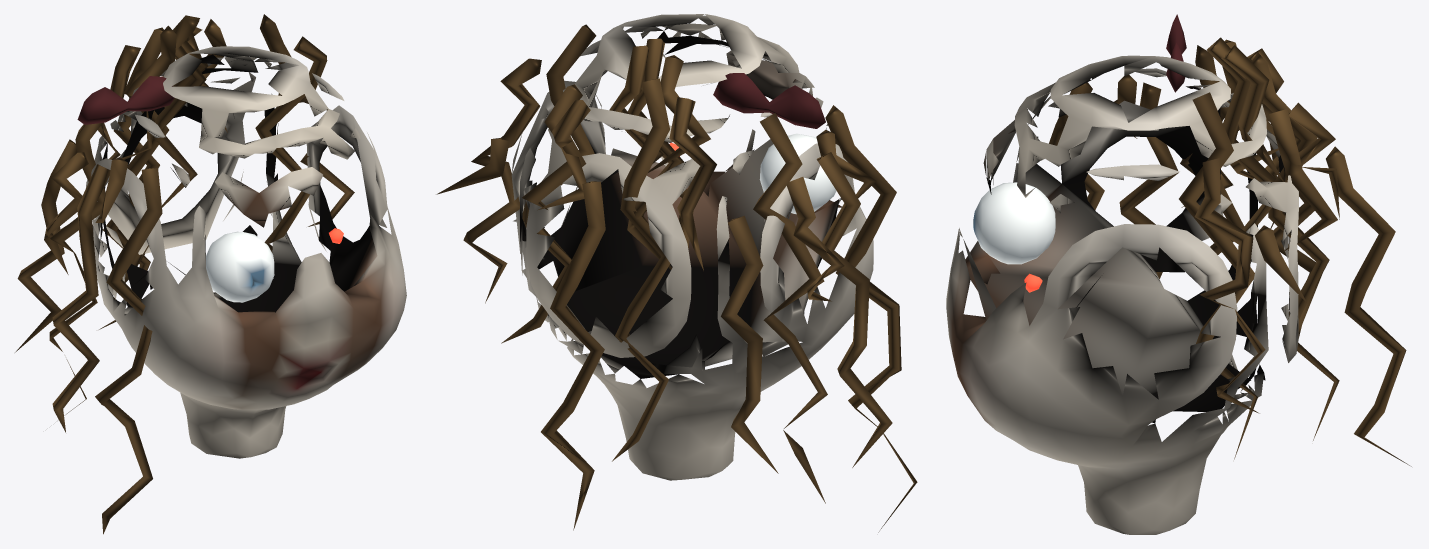
Rendered from doll_head_v16.glb.
3 views of the same model, side by side, from view 1: azimuth 30°, elevation 25°; view 2: azimuth 150°, elevation 25°; view 3: azimuth 270°, elevation 25° (orthographic). The views are drawn at different scales.
Parts seen in each view (by area): view 1: doll_head; view 2: doll_head; view 3: doll_head.
Boxes of the visible parts, x1=… form: doll_head: x1=15, y1=14, x2=406, y2=534; doll_head: x1=436, y1=14, x2=917, y2=532; doll_head: x1=946, y1=14, x2=1411, y2=534.
Size of the model in its own units: 0.2545 by 0.3178 by 0.2605.
